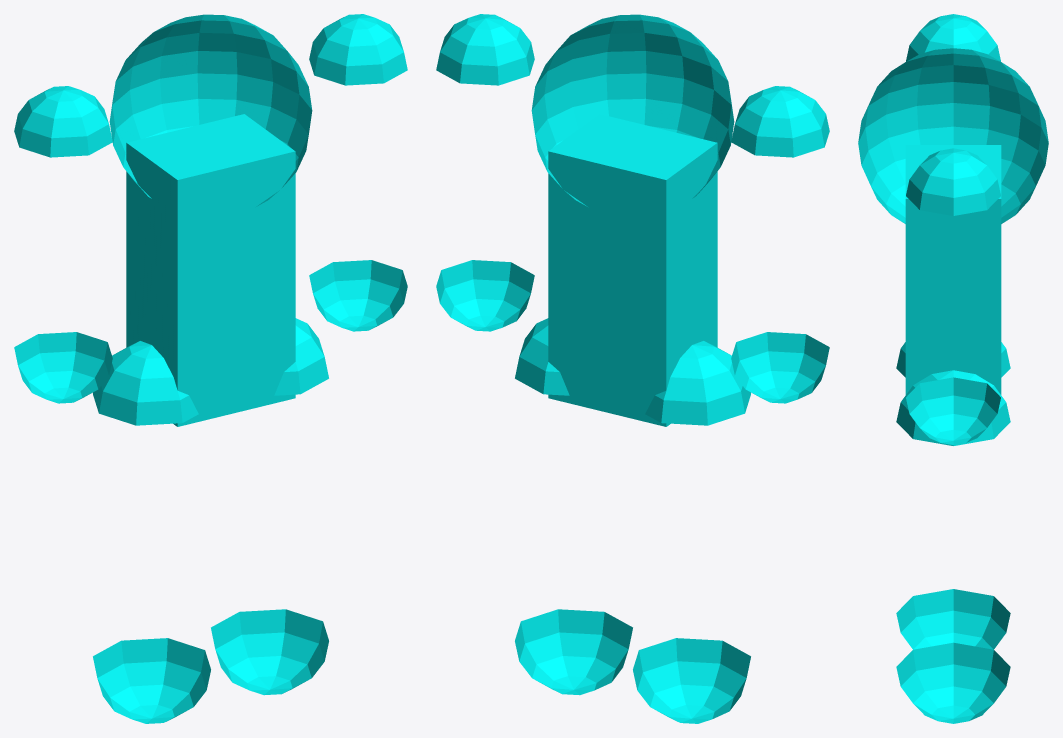
File: spirit_wolf_advanced.glb
3 views of the same model, side by side, from view 1: azimuth 30°, elevation 25°; view 2: azimuth 150°, elevation 25°; view 3: azimuth 270°, elevation 25° (orthographic). The views are drawn at different scales.
Parts seen in each view (by area): view 1: Spirit Wolf; view 2: Spirit Wolf; view 3: Spirit Wolf.
Part boxes in pixels (x1,y1,x2,y2): Spirit Wolf: (14,14,407,723); Spirit Wolf: (436,14,829,723); Spirit Wolf: (858,14,1048,723).
Bounding box in the file's own units: 1.3 × 2.19 × 0.6.
